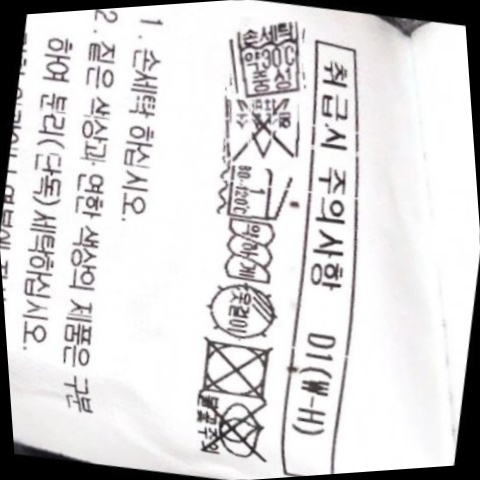DN_tumble_dry: (188, 331, 280, 405)
hand_wash: (225, 20, 311, 99)
iron_low: (219, 159, 293, 226)
line_dry_in_shade: (200, 278, 286, 344)
wring: (217, 215, 280, 288)
